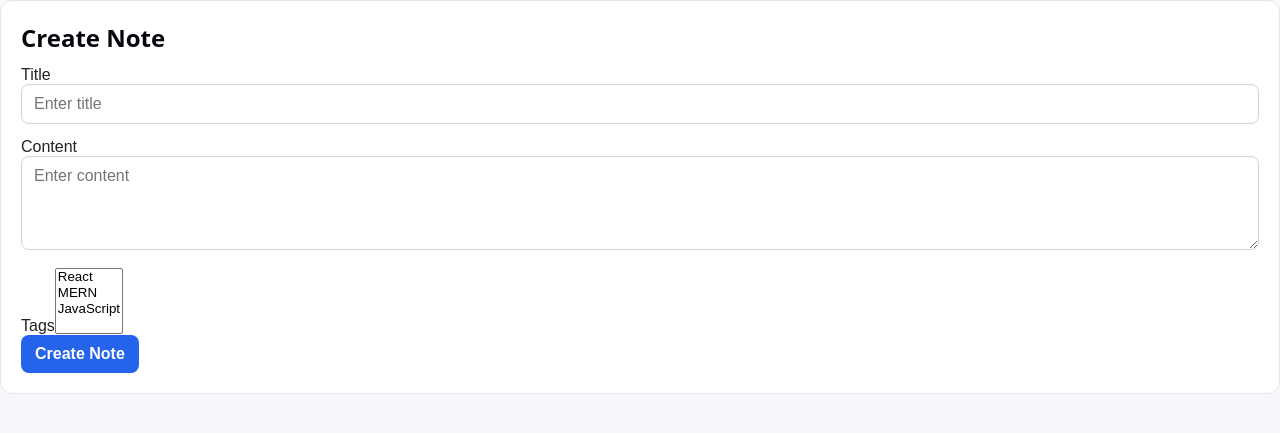
Test case: NoteForm › shows validation error when title is empty
Type "Some content" into the text box with placeholder "Enter content". click: (640, 203)
box: [21,156,1259,250]
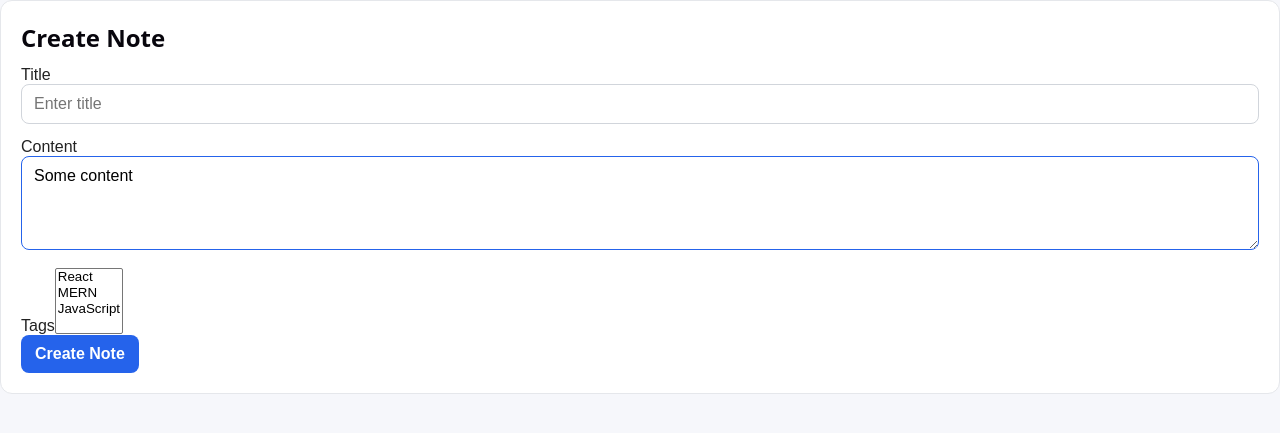
Click the button "Create Note". click: (80, 354)
box: [21,335,139,373]
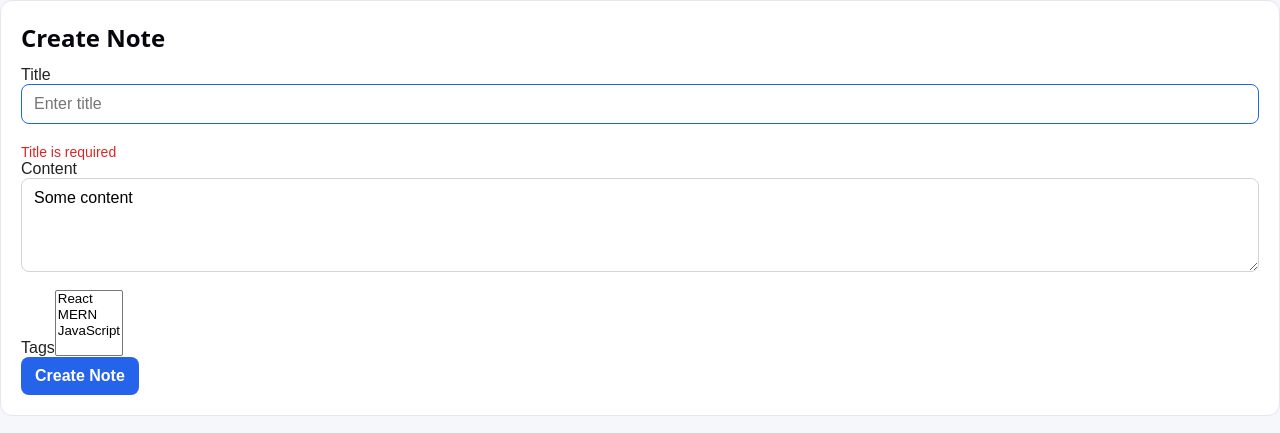
expect the text "Title is required" is shown: met, box [21,144,116,160]
